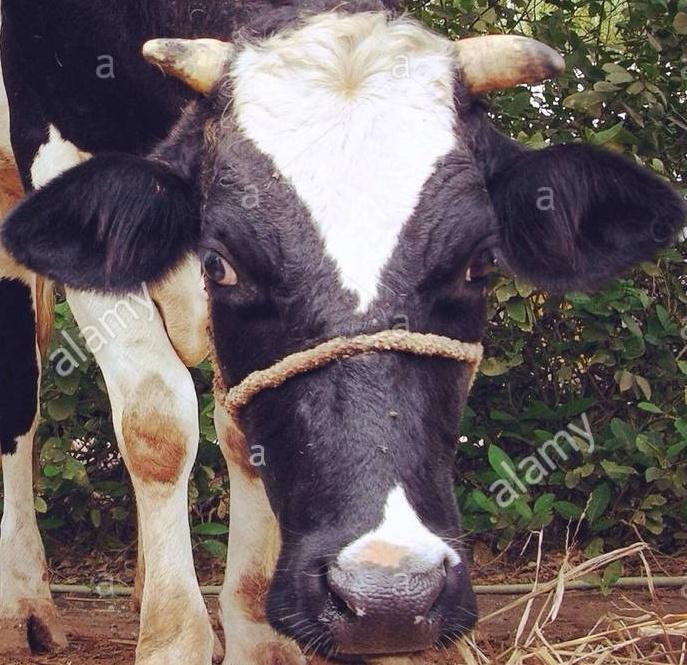muzzles: (292, 546, 476, 656)
